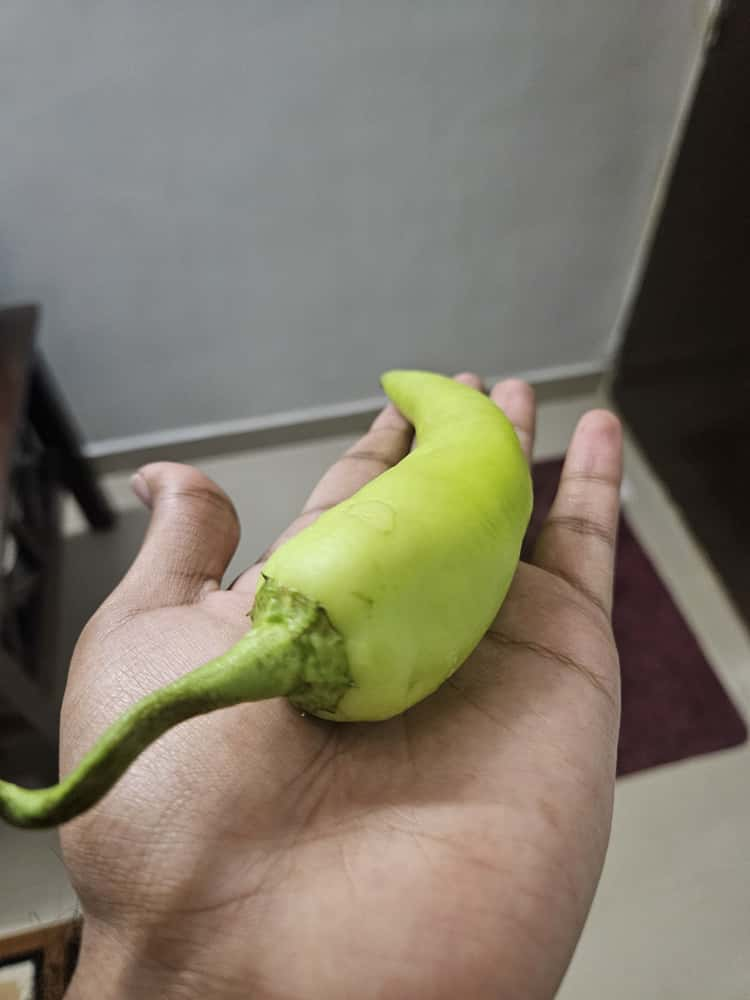wet: (1, 384, 583, 886)
